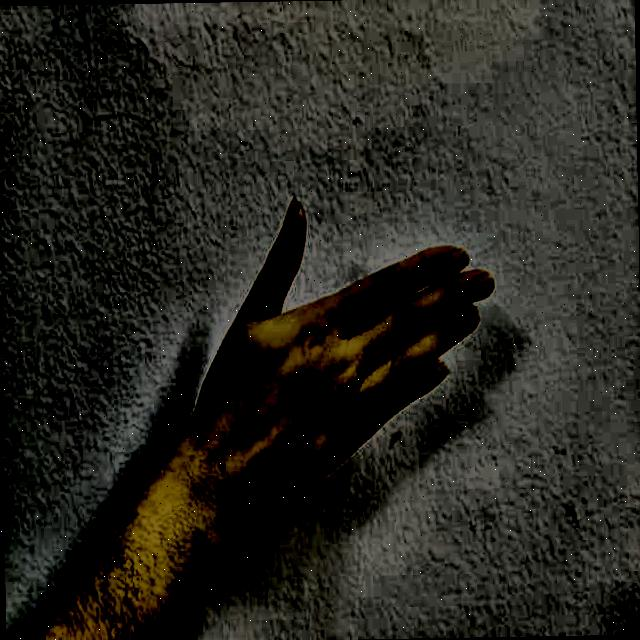Aa: (179, 120, 532, 548)
